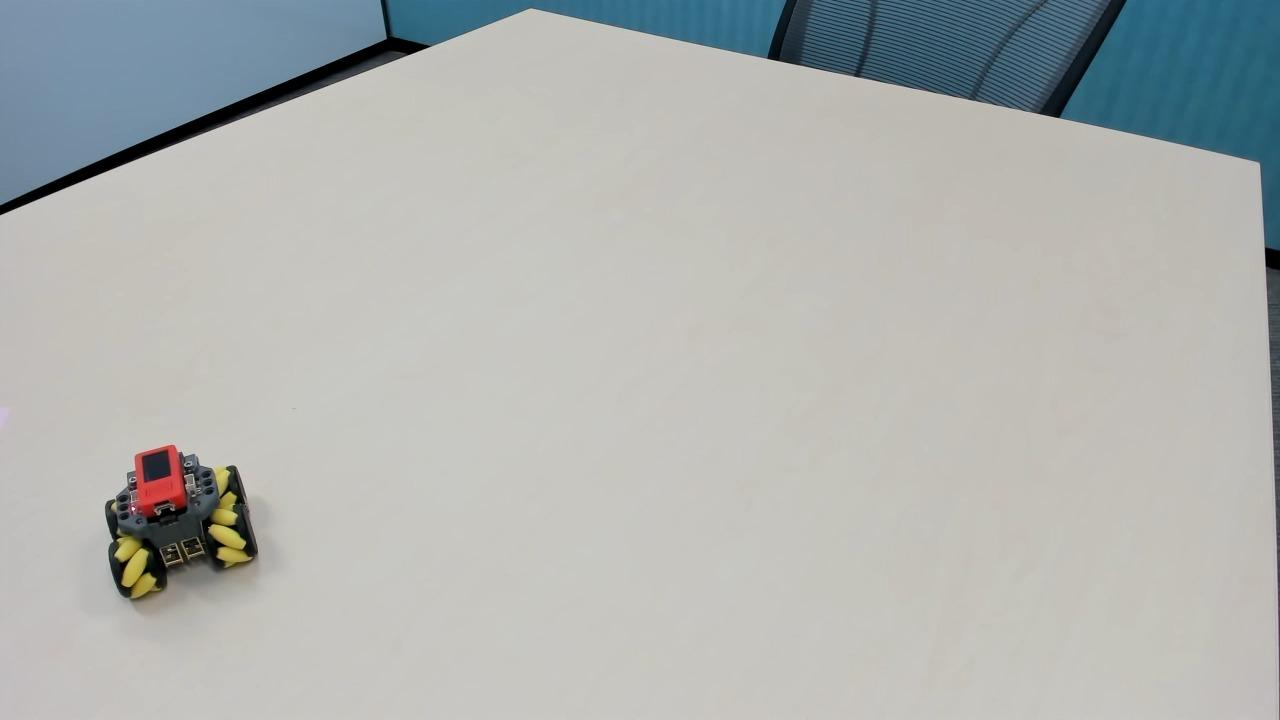R-Robot: (89, 430, 273, 618)
